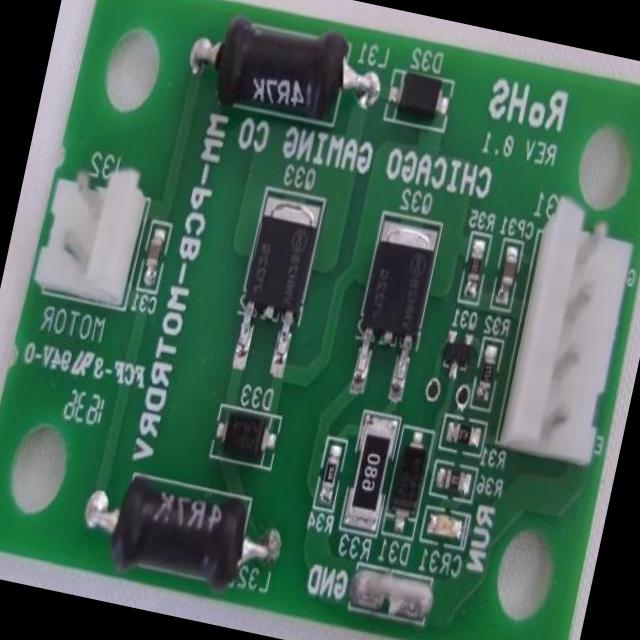IC: (341, 218, 441, 388), (228, 196, 320, 360)
LED: (423, 510, 464, 542)
capacitor: (493, 240, 523, 306), (140, 226, 167, 290)
connector: (494, 189, 637, 470), (27, 146, 156, 318)
diode: (382, 64, 450, 131), (386, 428, 432, 525), (216, 405, 274, 461)
resistor: (344, 414, 396, 528), (474, 340, 502, 403), (462, 237, 490, 298), (318, 449, 344, 502), (436, 466, 470, 500), (444, 422, 482, 452)
transistor: (433, 325, 479, 377)
